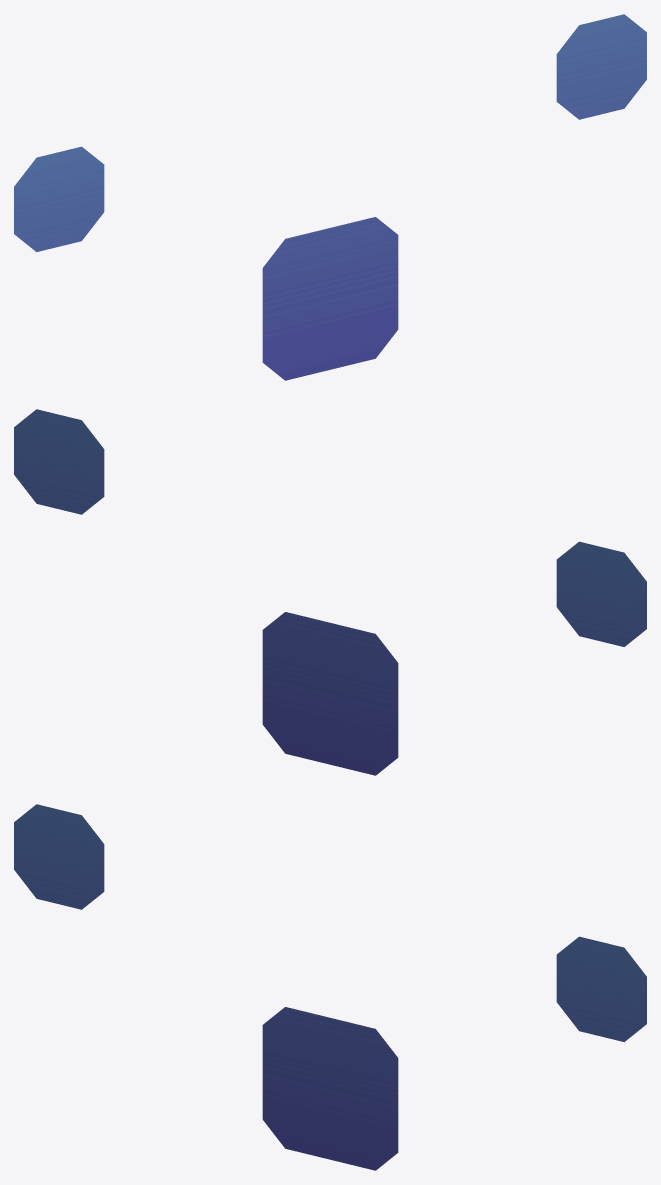
The model's file is coaster-kit--coaster-steel-cap-back.glb.
3 views of the same model, one above another, from view 1: azimuth 30°, elevation 25°; view 2: azimuth 150°, elevation 25°; view 3: azimuth 330°, elevation 25° (orthographic).
Parts seen in each view (by area): view 1: coaster-steel-cap-back; view 2: coaster-steel-cap-back; view 3: coaster-steel-cap-back.
Boxes of the visible parts, x1,y1,x2,y2 form: coaster-steel-cap-back: (14,14,646,380); coaster-steel-cap-back: (14,409,646,775); coaster-steel-cap-back: (14,804,646,1170).
Bounding box in the file's own units: 0.7 × 0.3 × 1.44e-15.
1 material, 1 textured.
